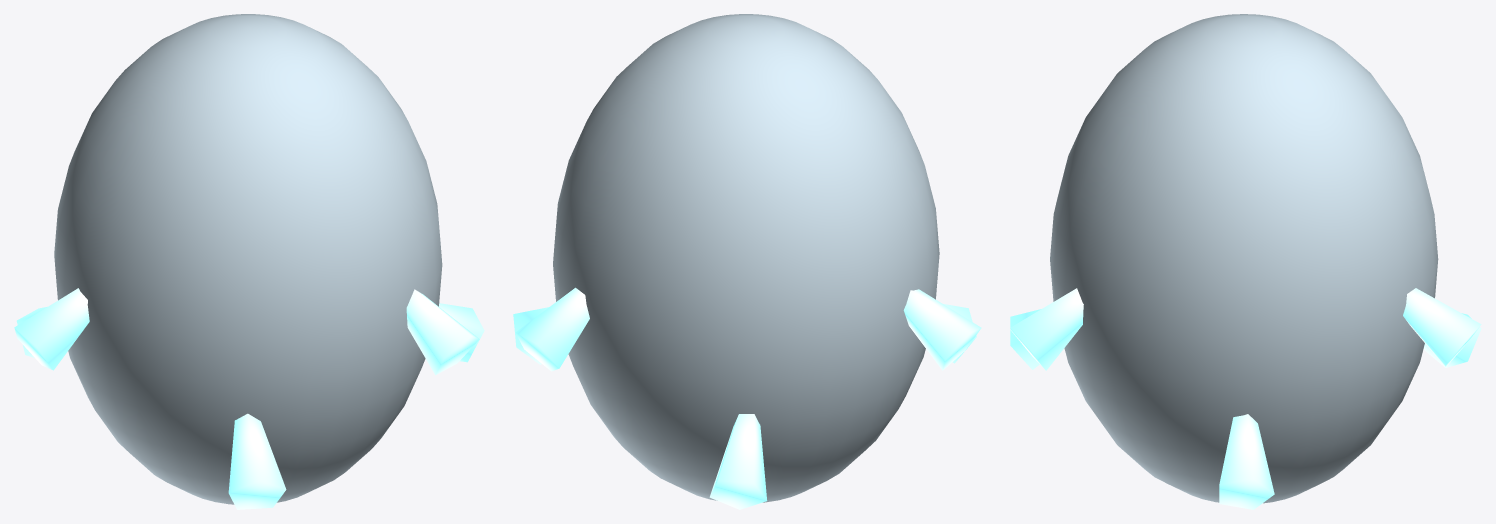
The model's file is lake_egg.glb.
The picture shows the model from 3 angles, left to right: view 1: azimuth 30°, elevation 25°; view 2: azimuth 150°, elevation 25°; view 3: azimuth 270°, elevation 25°; orthographic projection.
Parts seen in each view (by area): view 1: lake_egg; view 2: lake_egg; view 3: lake_egg.
Part boxes in pixels (x1,y1,x2,y2): lake_egg: (14, 14, 484, 509); lake_egg: (513, 14, 981, 509); lake_egg: (1010, 14, 1481, 509).
Bounding box in the file's own units: 1.03 × 1 × 0.9224.
